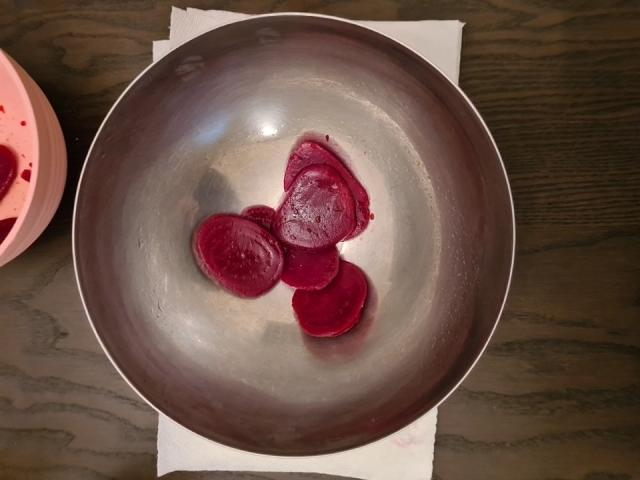kichen waste: (192, 142, 367, 336)
